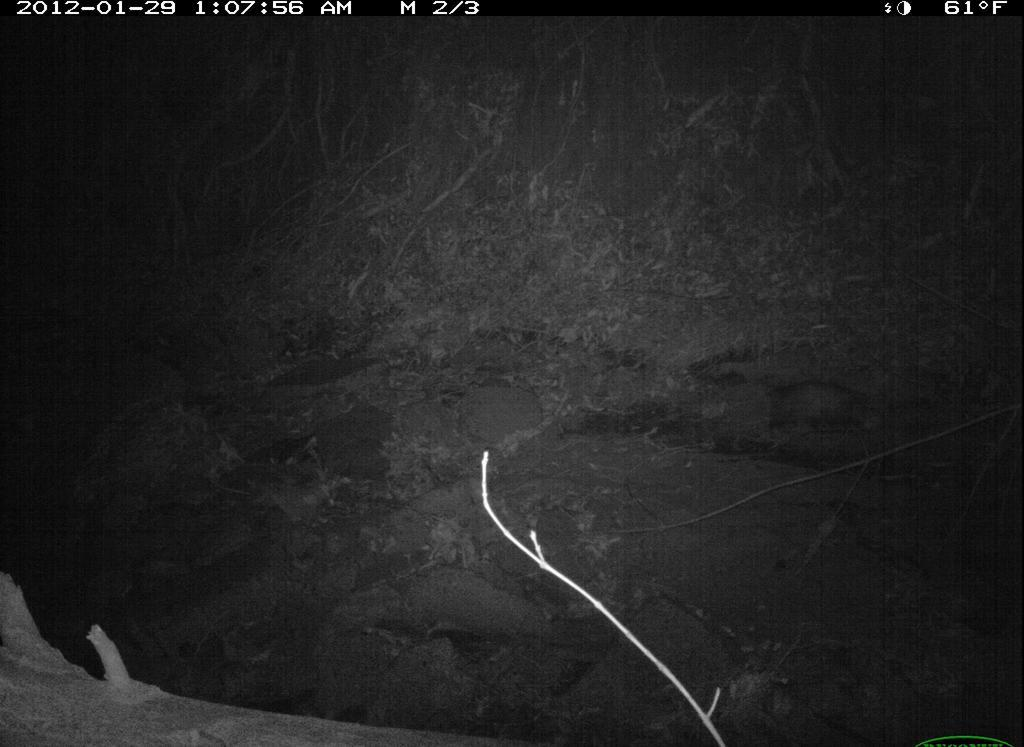opossum: (721, 365, 886, 445)
